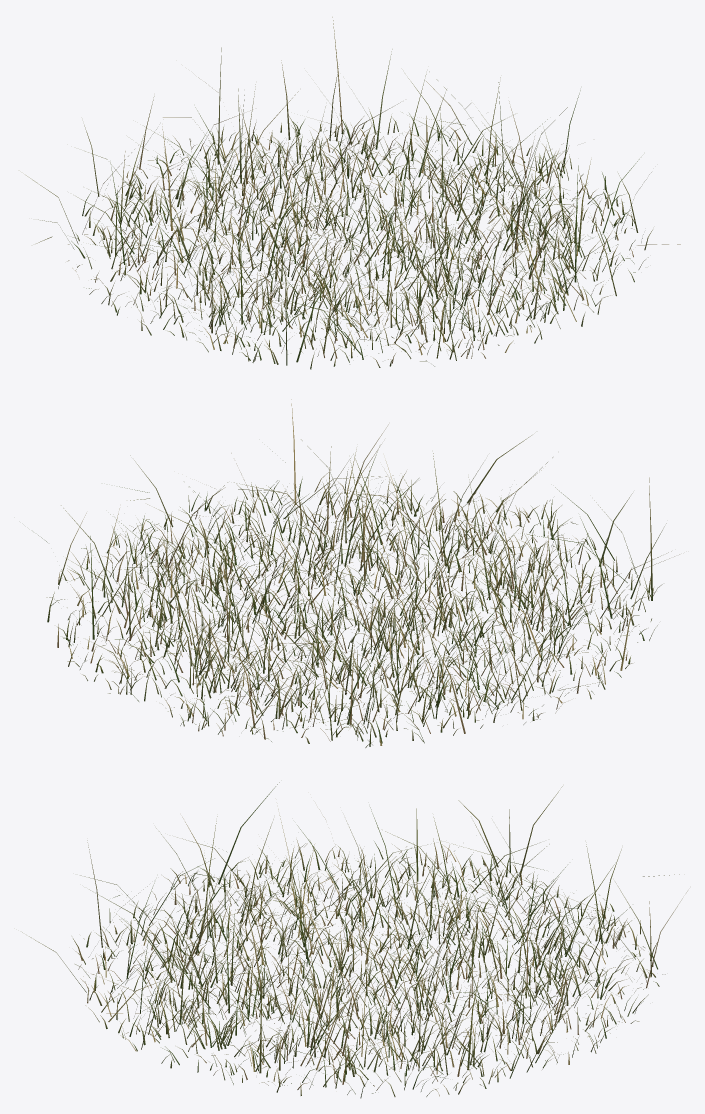
Rendered from carpet_moor.glb.
The picture shows the model from 3 angles, top to bottom: view 1: azimuth 30°, elevation 25°; view 2: azimuth 150°, elevation 25°; view 3: azimuth 270°, elevation 25°; orthographic projection. The views are drawn at different scales.
Parts seen in each view (by area): view 1: carpet_moor; view 2: carpet_moor; view 3: carpet_moor.
Boxes of the visible parts, left/top/right/bottom form: carpet_moor: left=26, top=17, right=680, bottom=369; carpet_moor: left=38, top=399, right=679, bottom=747; carpet_moor: left=22, top=782, right=687, bottom=1098.
Size of the model in its own units: 2.12 by 0.3992 by 2.2.
